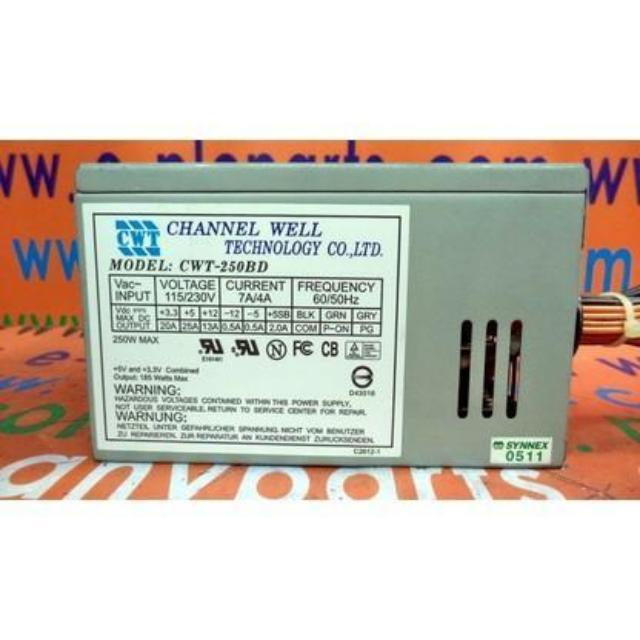PSU: (69, 155, 583, 478)
